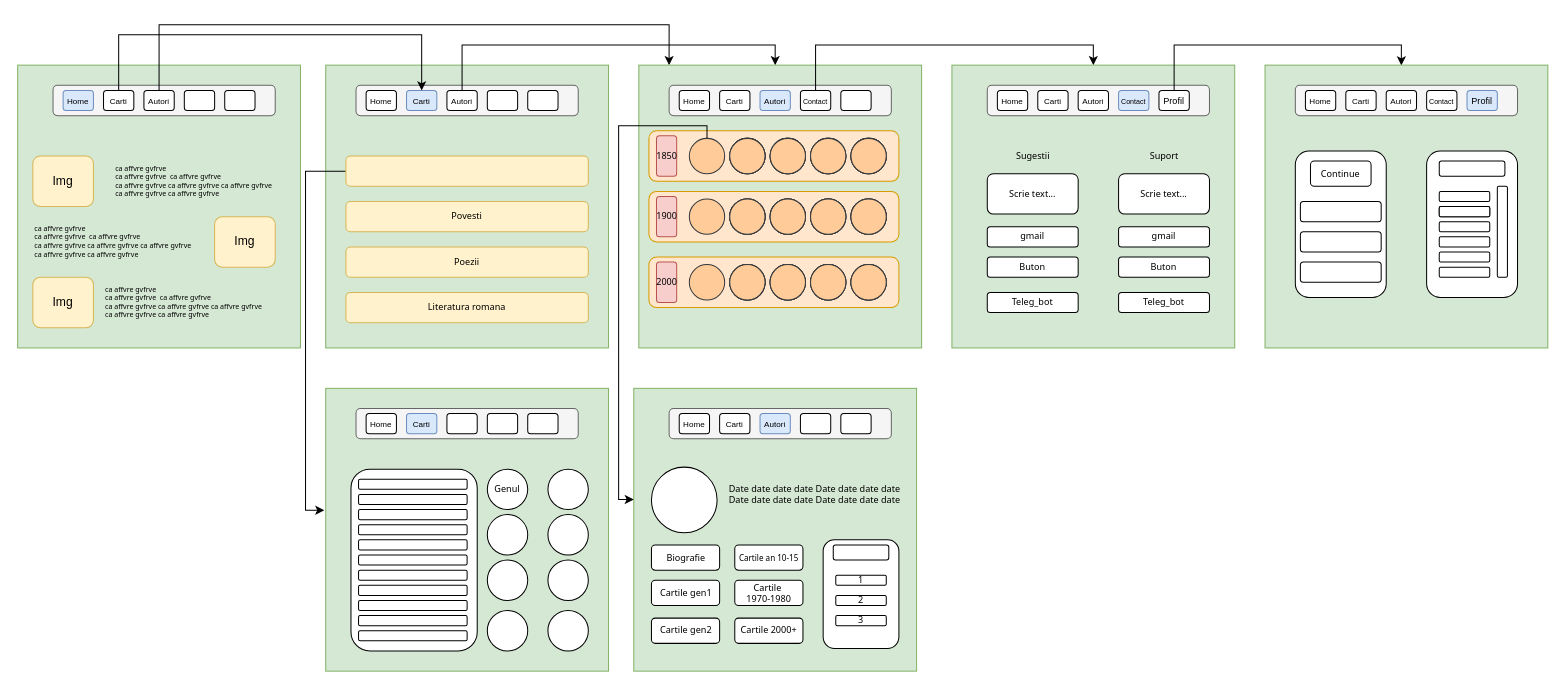
This 1566x689 diagram has some shape labels left out. Here are the shapes that lost their labels. From the top down, the box of each, then its label:
(345, 155, 588, 186): Romane
(1438, 160, 1505, 176): Carti citite
(650, 466, 717, 533): Img Autorul
(350, 468, 477, 651): Denumirea cartii
(832, 544, 889, 560): Aut Asemanatori
